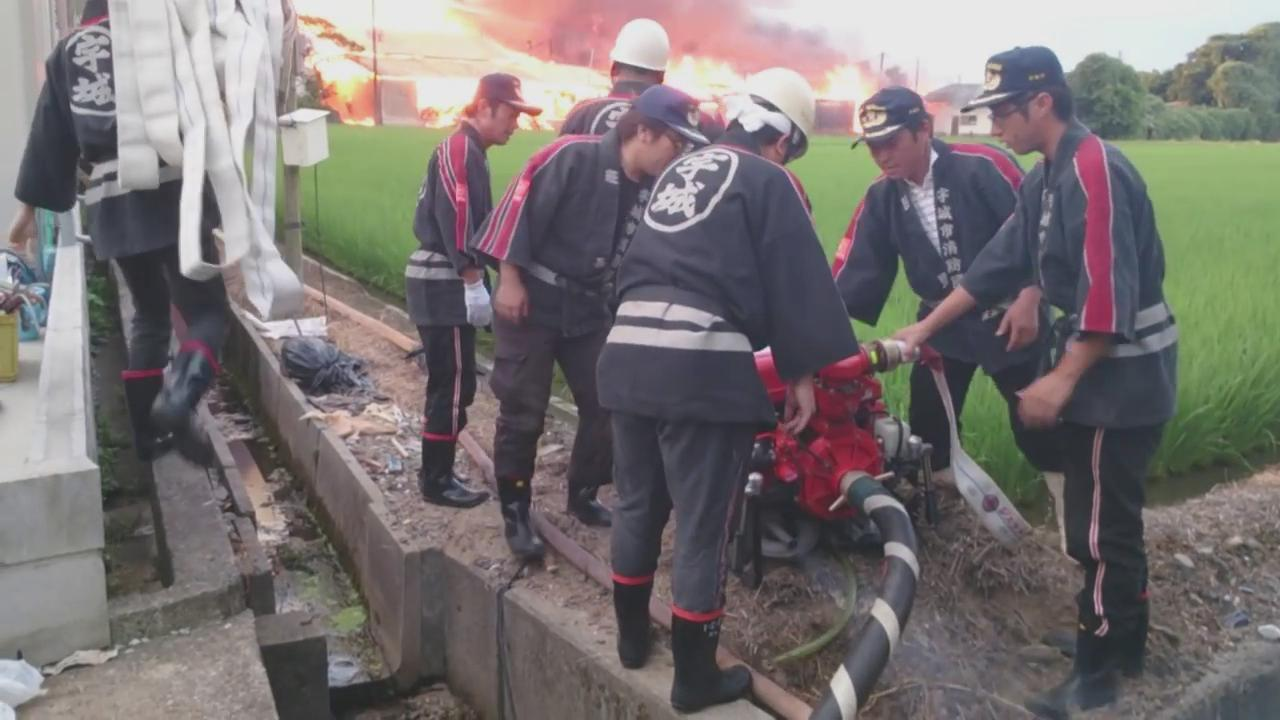Fire: (299, 5, 607, 128), (496, 8, 851, 77), (666, 53, 745, 96), (821, 63, 878, 100)
